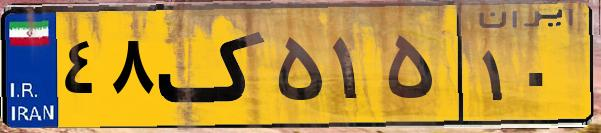0: (525, 38, 570, 115)
1: (330, 28, 385, 110), (475, 38, 525, 113)
4: (57, 26, 110, 100)
5: (270, 28, 330, 110), (385, 28, 445, 110)
8: (110, 28, 158, 98)
ک: (158, 12, 270, 120)
